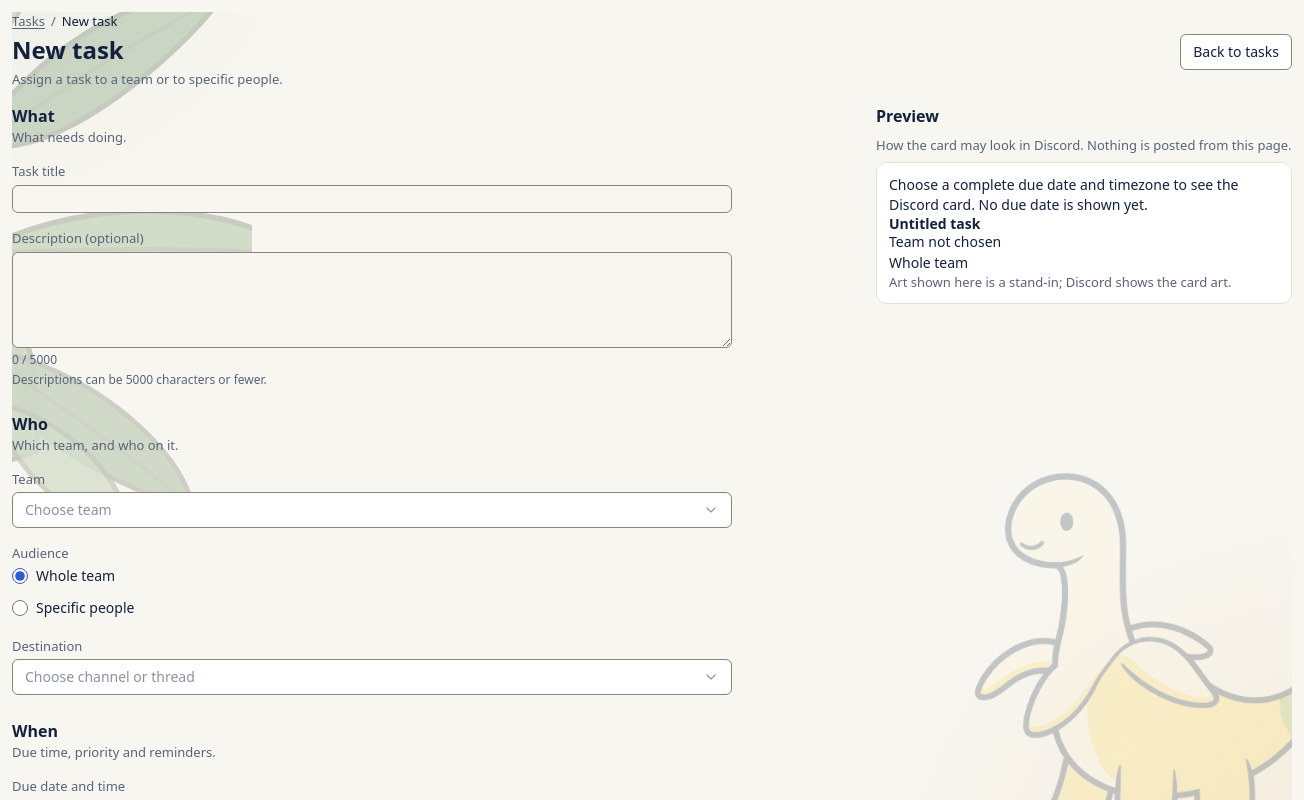
it: task creation › shows backslashes and punctuation in a title literally in the preview
The width and height of the screenshot is (1304, 800).
Type "Fix a\\b *not bold* and _x_" into the field labelled "Task title" at (372, 199), box left=12, top=185, right=732, bottom=213
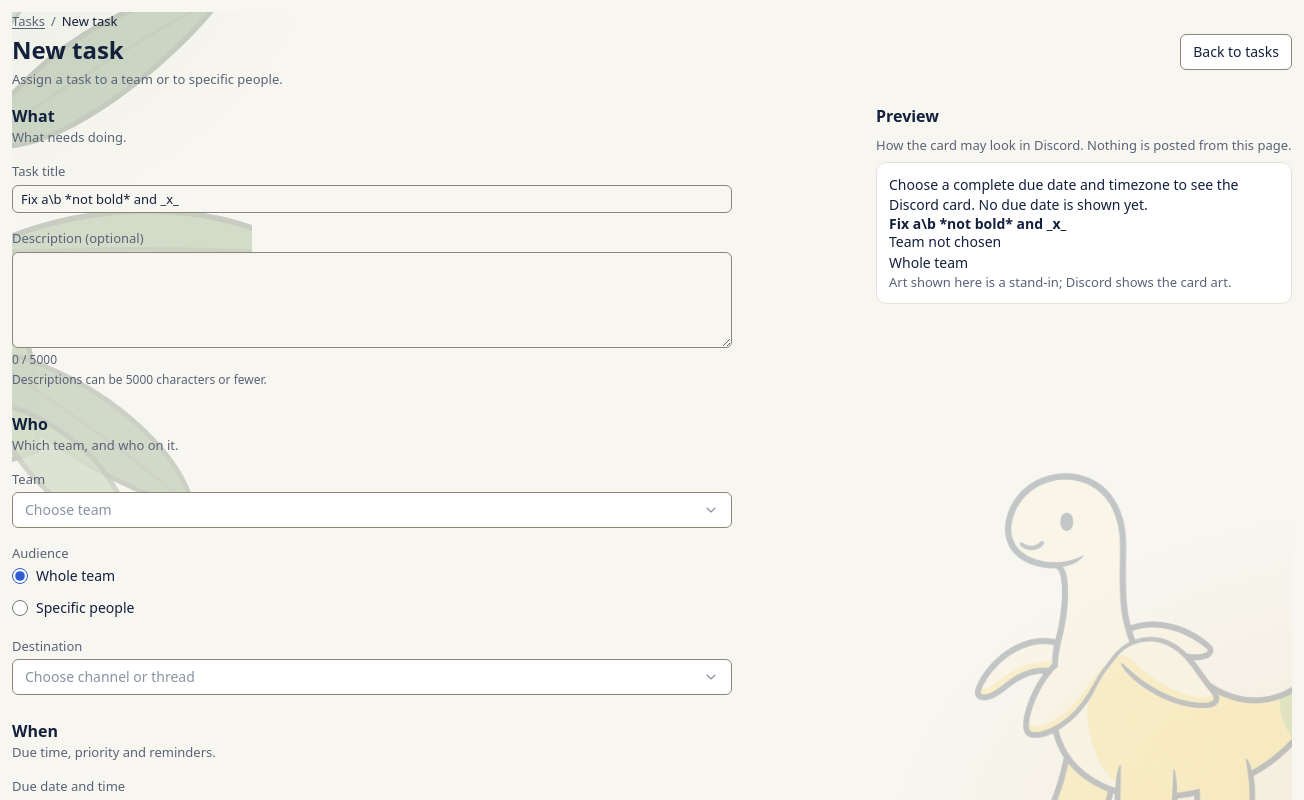
Expected: the heading "Fix a\\b *not bold* and _x_" is shown, left=889, top=214, right=1066, bottom=233
